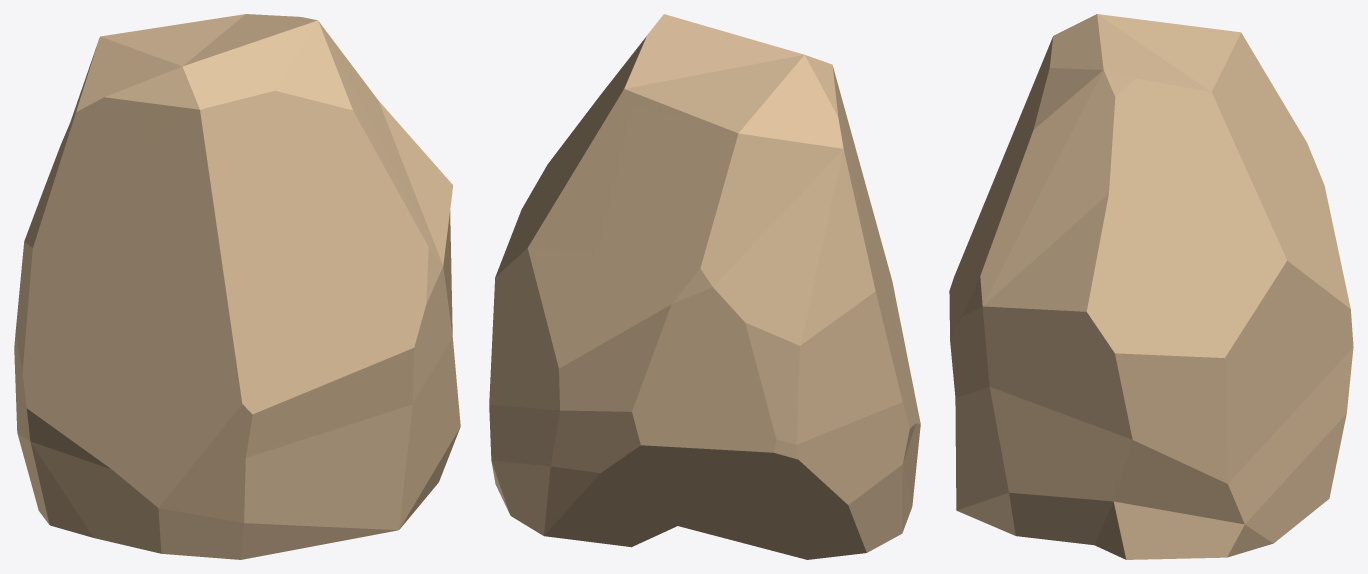
File: nature-stone-large.glb
3 views of the same model, side by side, from view 1: azimuth 30°, elevation 25°; view 2: azimuth 150°, elevation 25°; view 3: azimuth 270°, elevation 25° (orthographic). The views are drawn at different scales.
Visible parts, largest first — view 1: stone-large; view 2: stone-large; view 3: stone-large.
Part boxes in pixels (x1=…): stone-large: x1=14, y1=14, x2=460, y2=559; stone-large: x1=489, y1=14, x2=920, y2=559; stone-large: x1=949, y1=14, x2=1353, y2=559.
Bounding box in the file's own units: 3.38 × 3.71 × 3.01.
